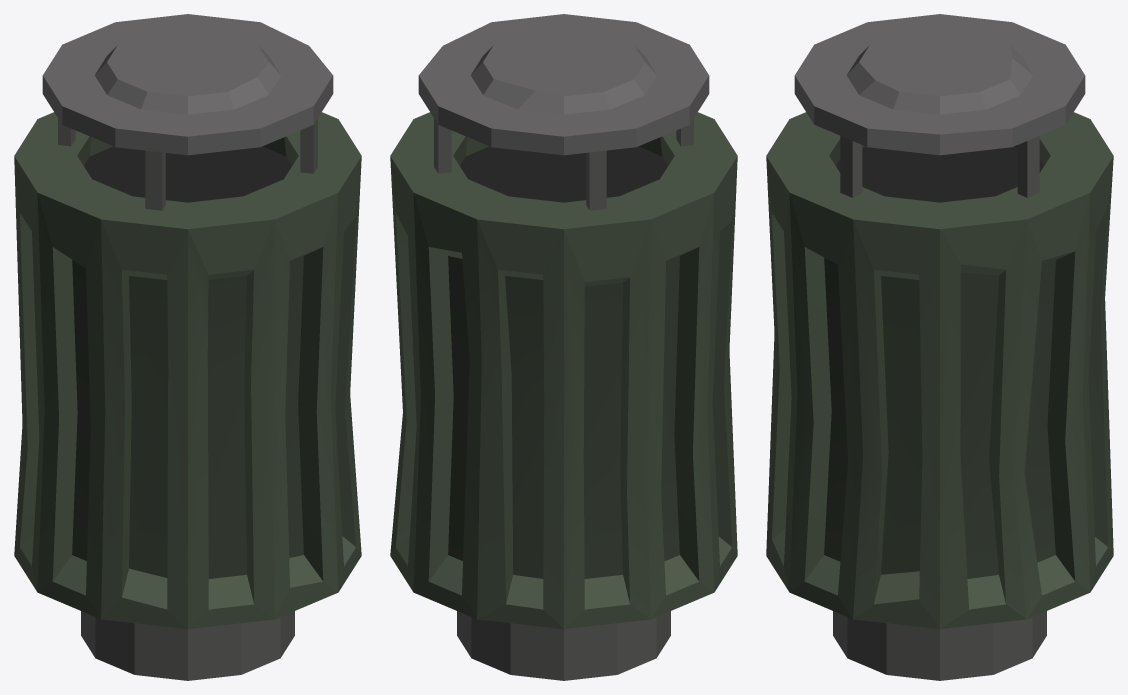
The model's file is SM_Prop_Trashbin_01.fbx.
3 renders of one model, left to right at view 1: azimuth 30°, elevation 25°; view 2: azimuth 150°, elevation 25°; view 3: azimuth 270°, elevation 25°, orthographic.
Parts seen in each view (by area): view 1: SM_Prop_Trashbin_01; view 2: SM_Prop_Trashbin_01; view 3: SM_Prop_Trashbin_01.
Part boxes in pixels (<box>): SM_Prop_Trashbin_01: <box>14,14,361,680</box>; SM_Prop_Trashbin_01: <box>390,14,737,680</box>; SM_Prop_Trashbin_01: <box>766,14,1113,680</box>.
Bounding box in the file's own units: 64.7 × 118 × 64.7.
